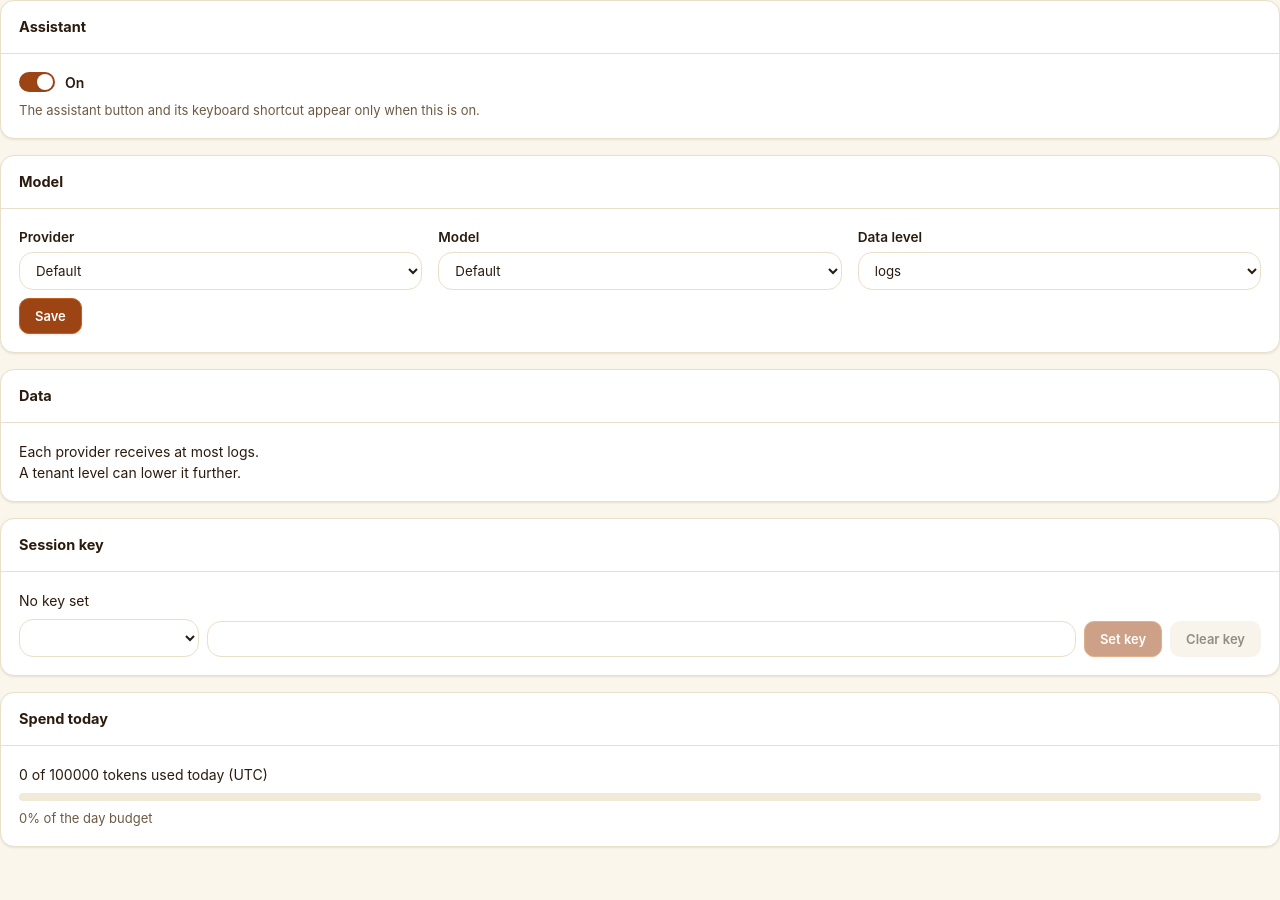
ProfileAssistantTab › names the unavailable key error
Type "k" into the password field named "API key" at (641, 639), box [207,621,1076,657]
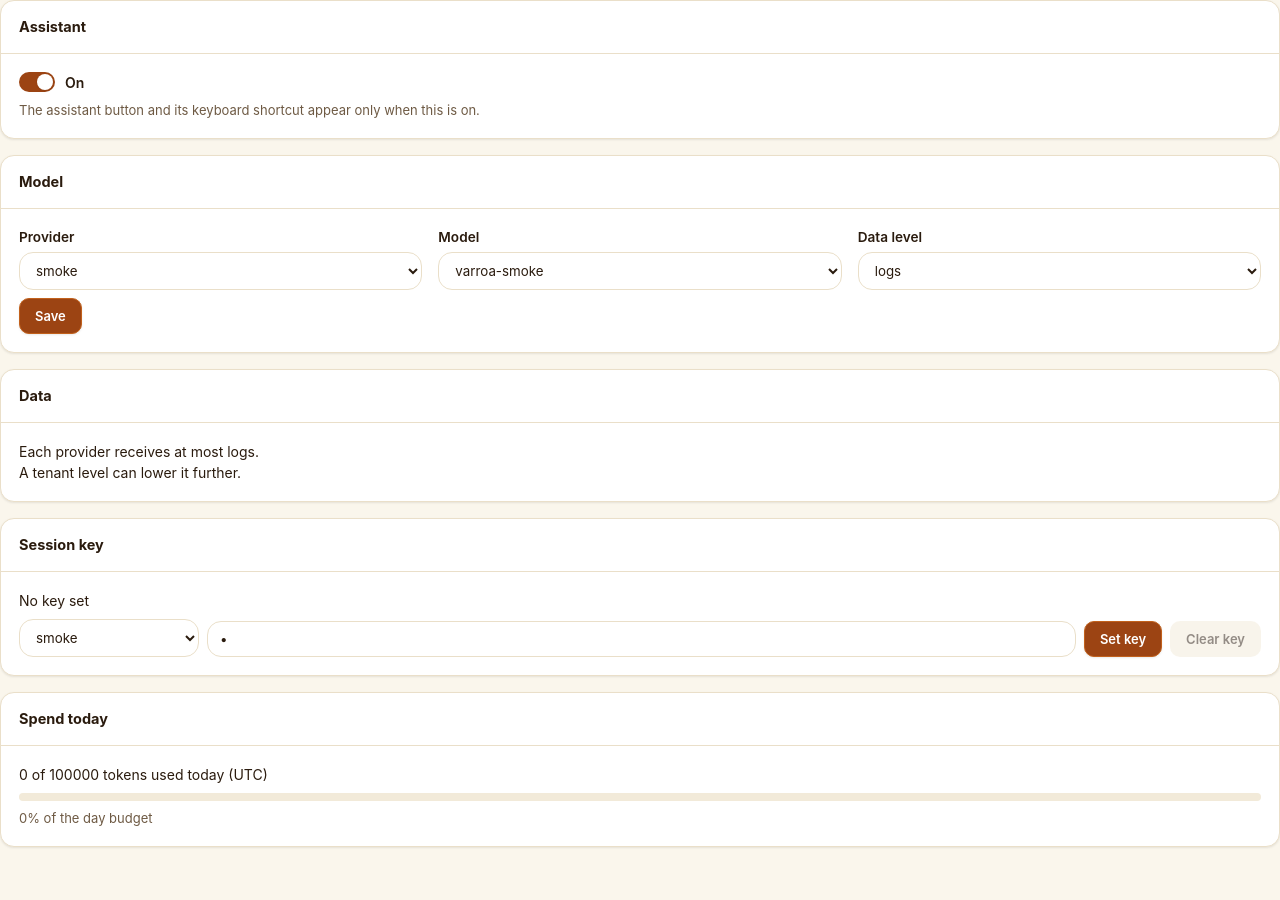
expect the dropdown named "Key provider" shows "smoke": met, box [19,619,199,657]
Click the button "Set key" at (1123, 639), box [1084,621,1162,657]
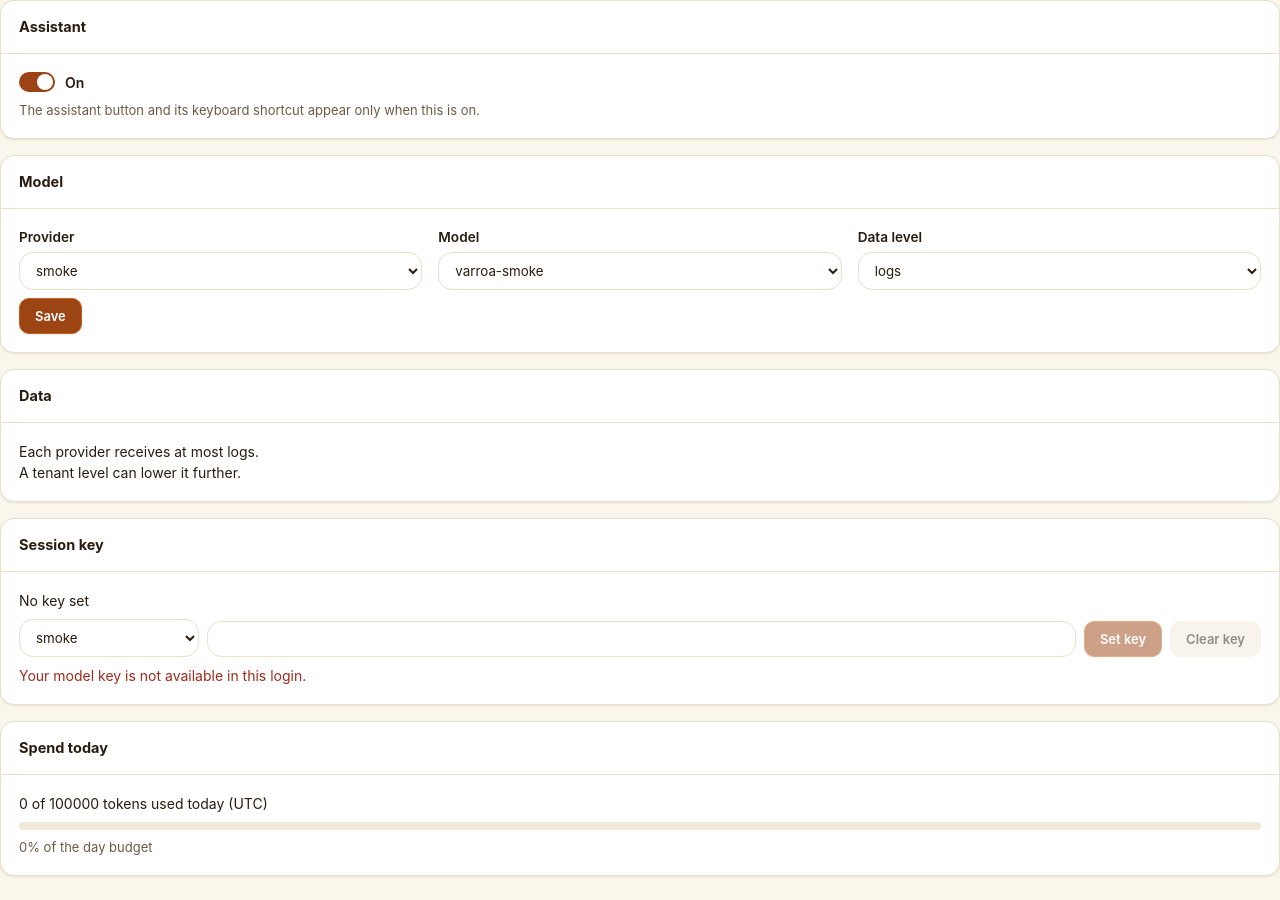
expect the text "Your model key is not available in this login." is shown: met, box [19,667,306,684]
